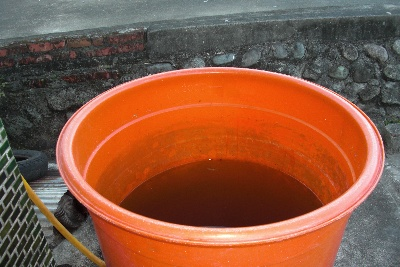bucket: (54, 64, 387, 267)
